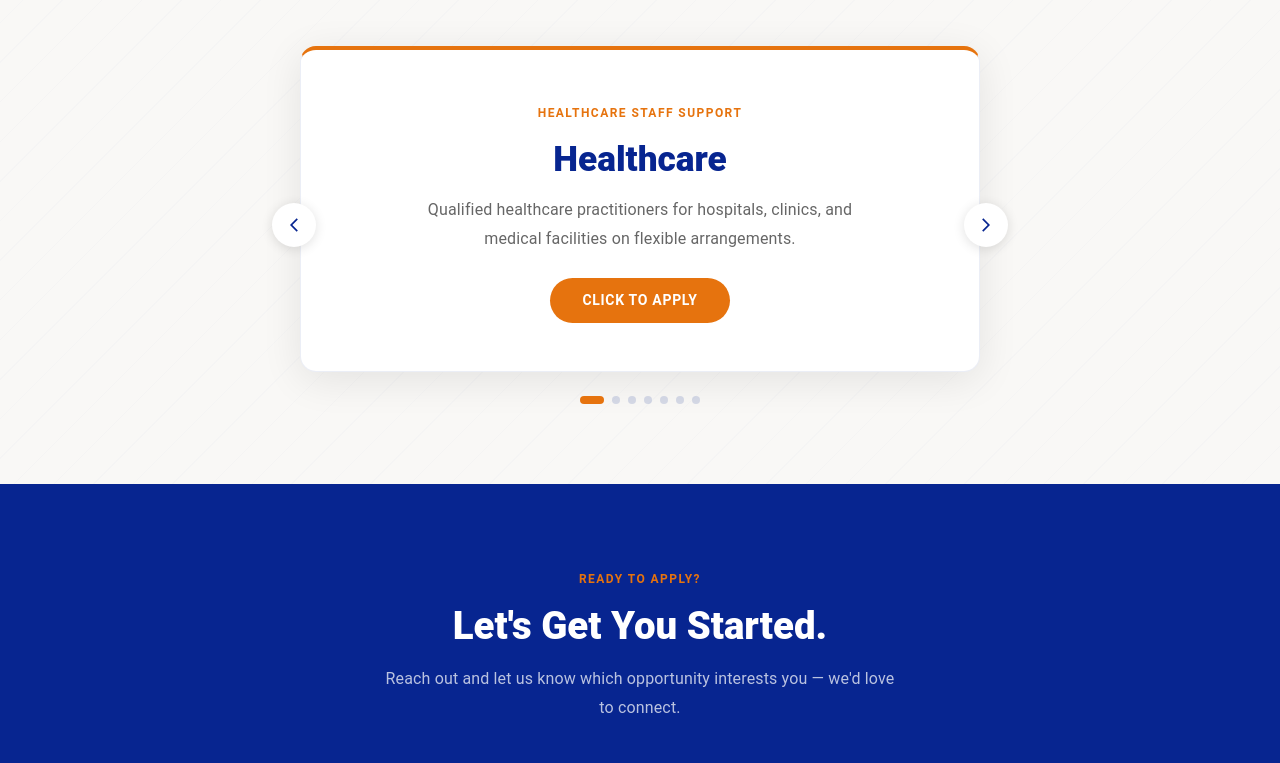
Card slideshow › clicking a dot navigates directly to that slide
(page scrolled)
# Dot 4 is Nursing under the StaffingSolutions ordering
Click the button named "go to slide" at (648, 400), box top-left (644, 396), bottom-right (652, 404)
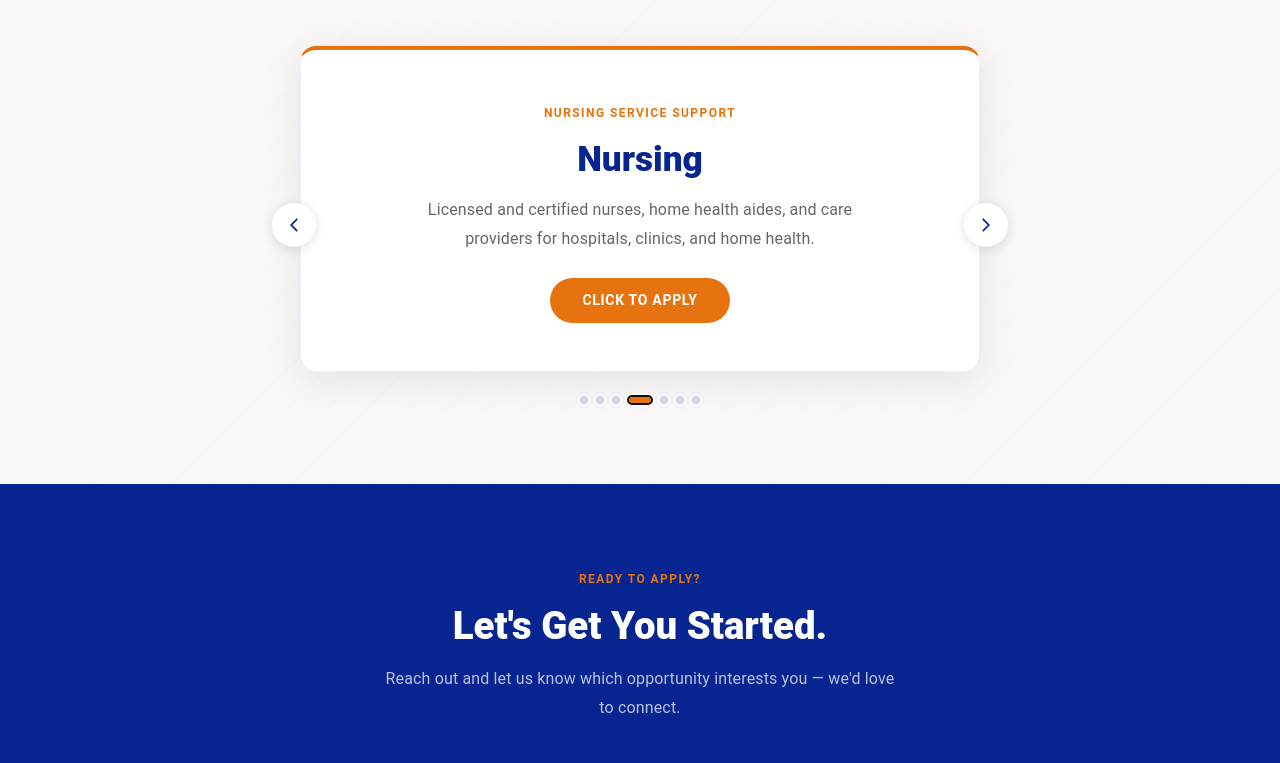
Check: the heading "Nursing" is shown, box top-left (577, 138), bottom-right (703, 180)
Check: the text "Nursing Service Support" is shown, box top-left (544, 106), bottom-right (736, 120)
